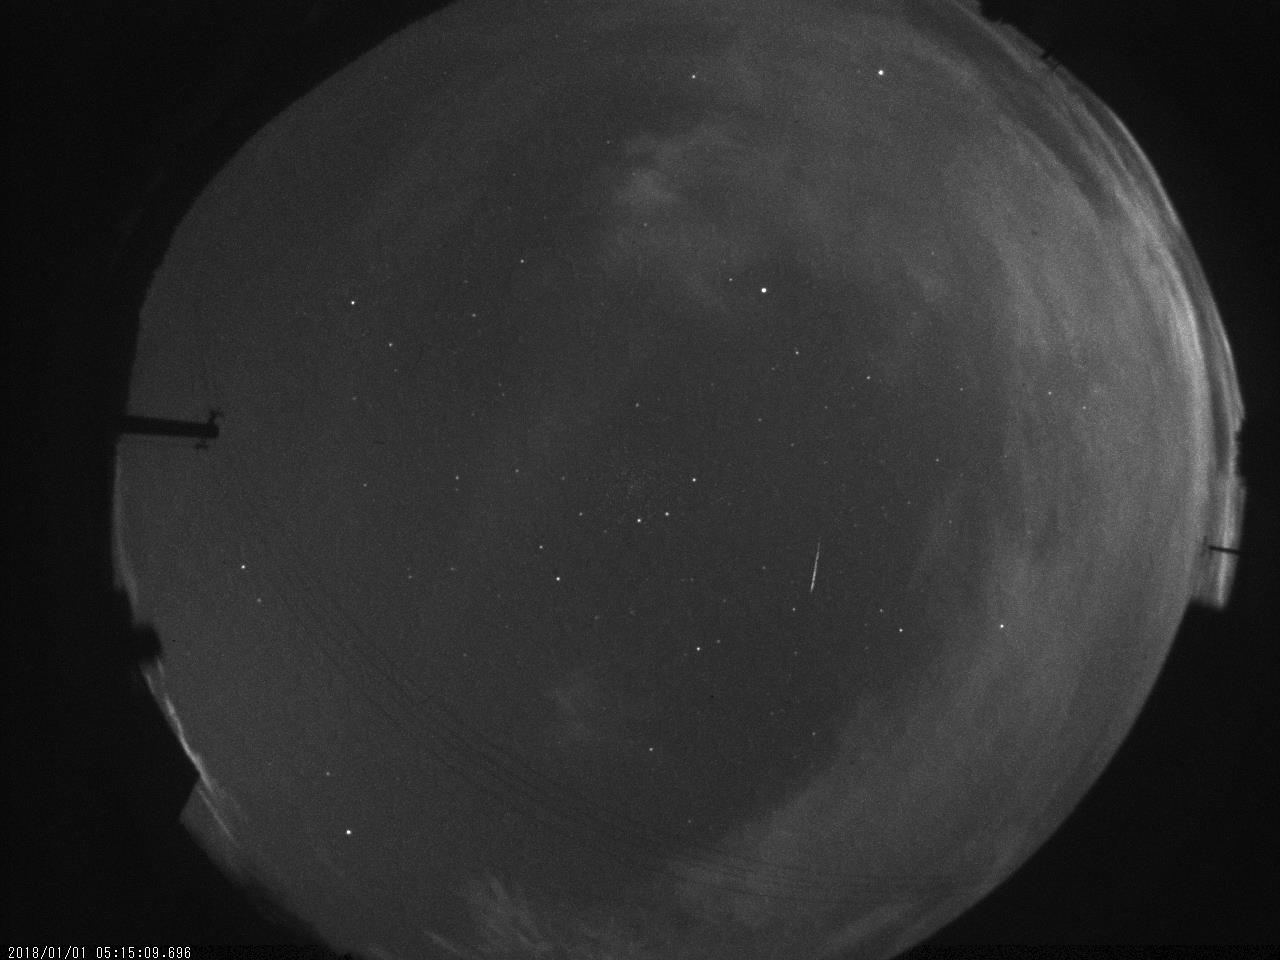meteor: (788, 528, 843, 613)
